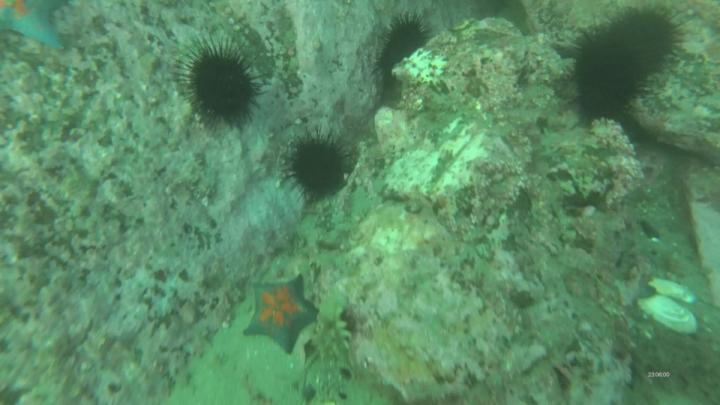echinus: (571, 21, 645, 125), (188, 46, 259, 131), (615, 5, 685, 80), (375, 16, 430, 92), (287, 133, 347, 199)
scallop: (640, 275, 703, 339)
starfish: (246, 274, 324, 354), (1, 1, 72, 59)
